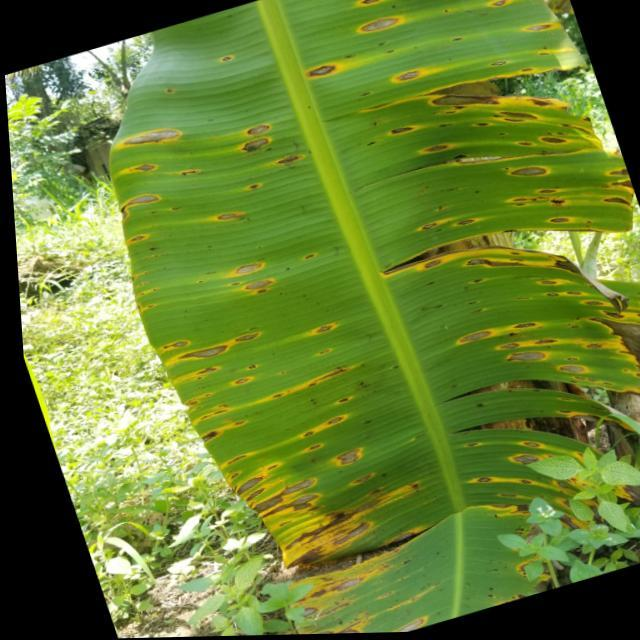Early_rust: (86, 0, 640, 620)
